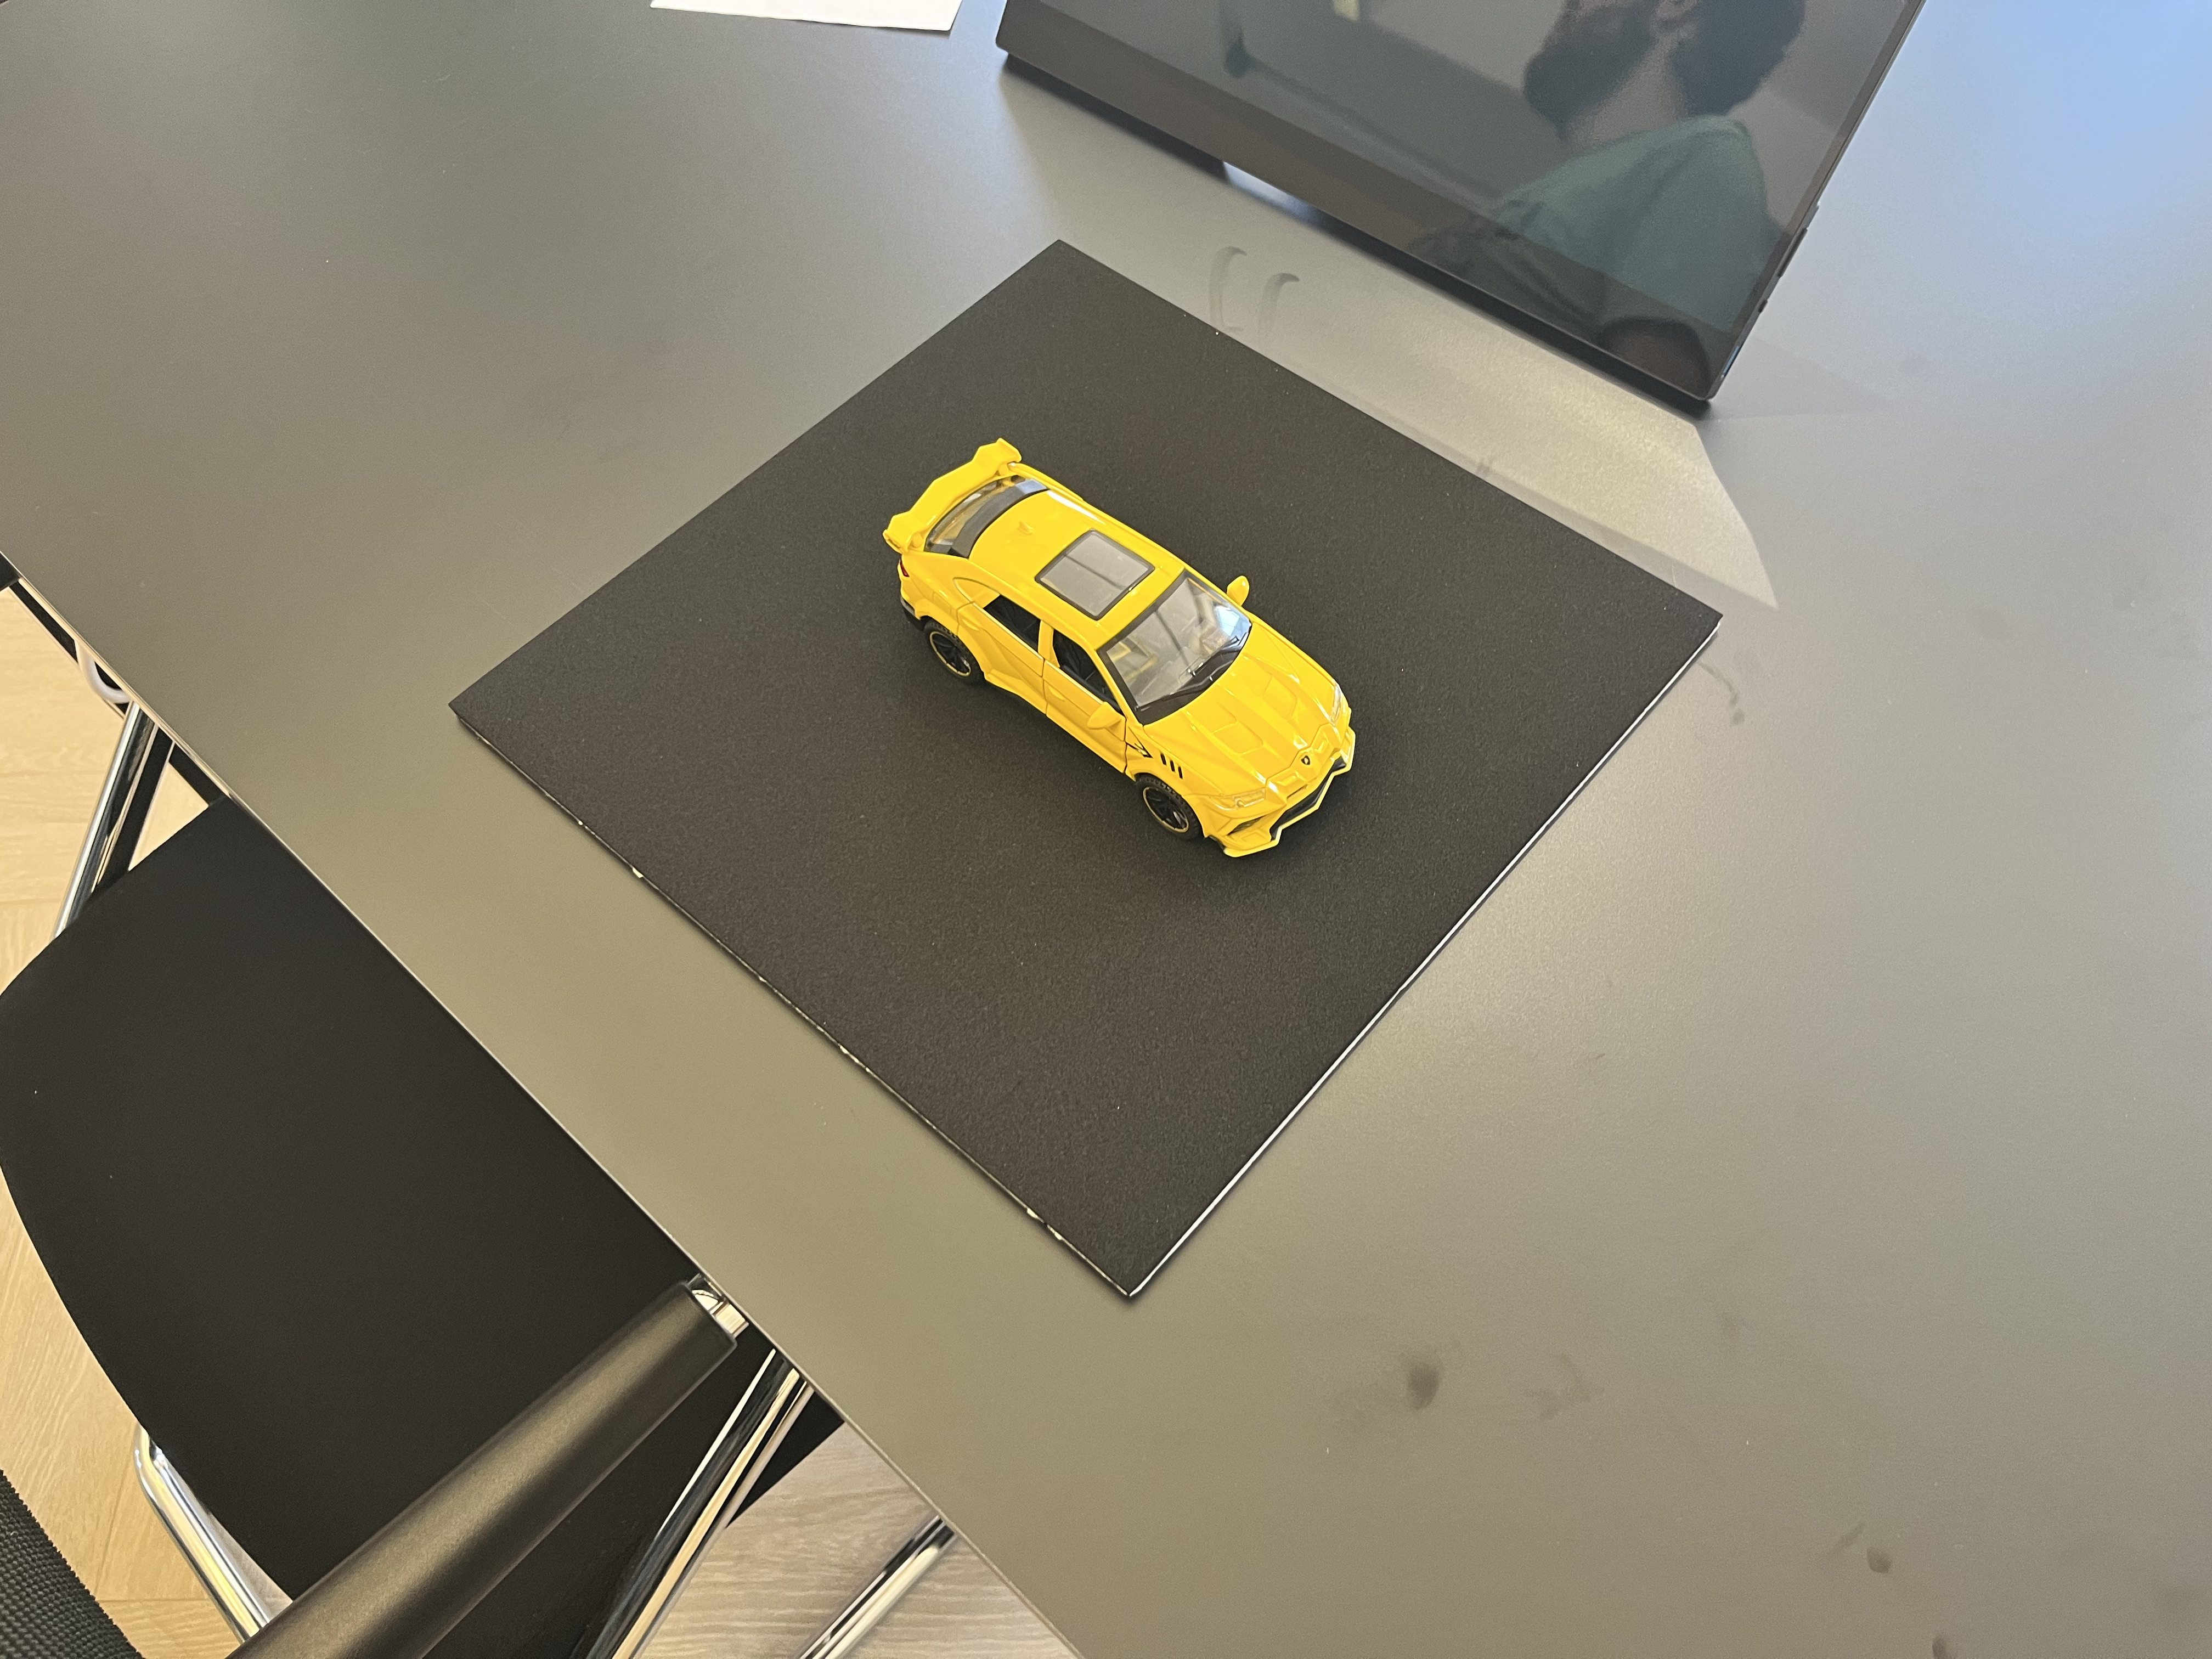lambo: (880, 434, 1360, 859)
